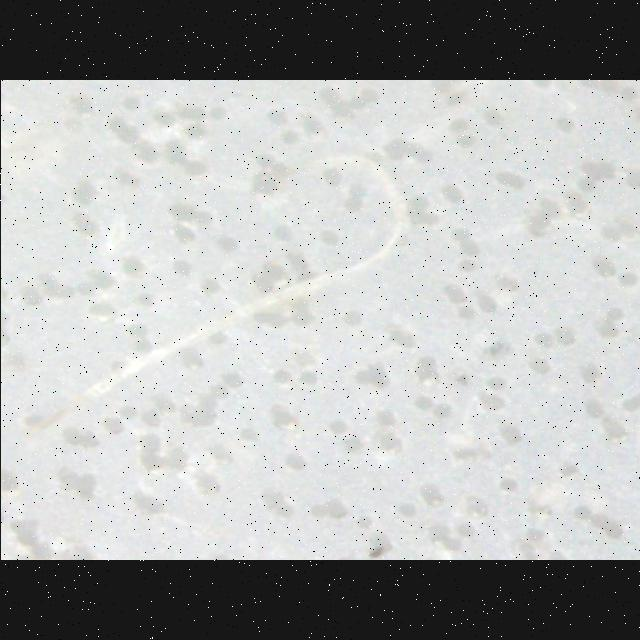Fibre: (31, 150, 426, 460)
